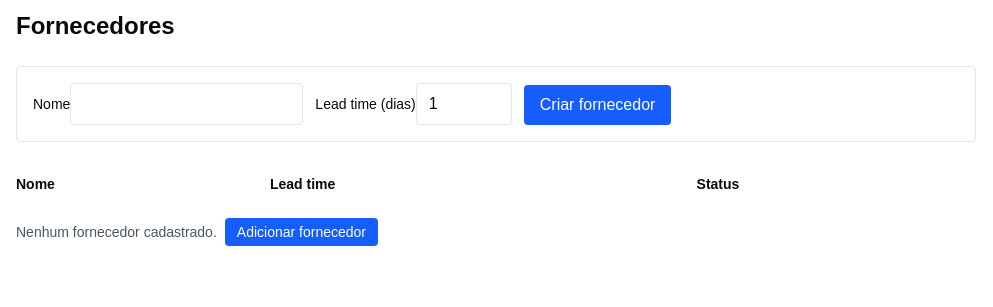
FornecedoresPage › mostra erro visível quando o POST falha
The image size is (993, 307).
Type "Atacado X" into the field labelled "Nome".
click(187, 104); type("Atacado X")  # box x1=70 y1=83 x2=303 y2=125
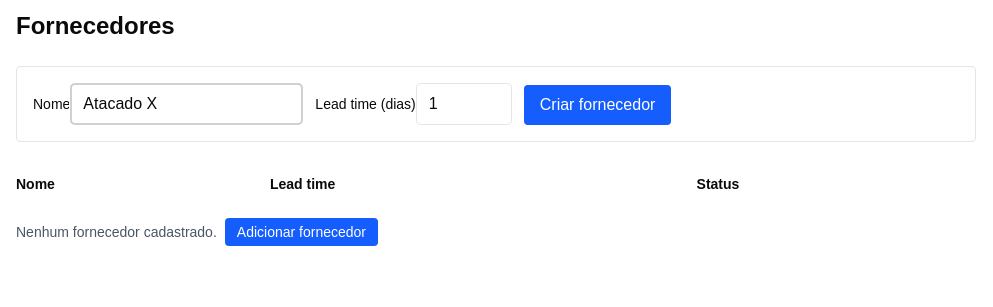
Click the button "Criar fornecedor".
click(598, 105)  # box x1=524 y1=85 x2=671 y2=125
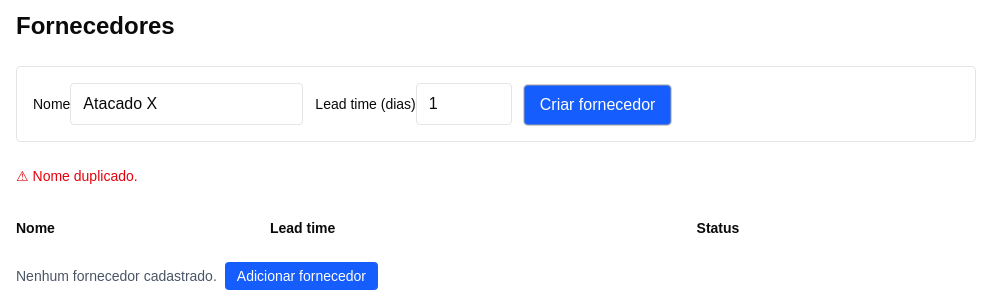
Result: the text "Nome duplicado." is shown at x1=33 y1=168 x2=138 y2=184
Result: the message "⚠Nome duplicado." is shown at x1=16 y1=168 x2=138 y2=184
